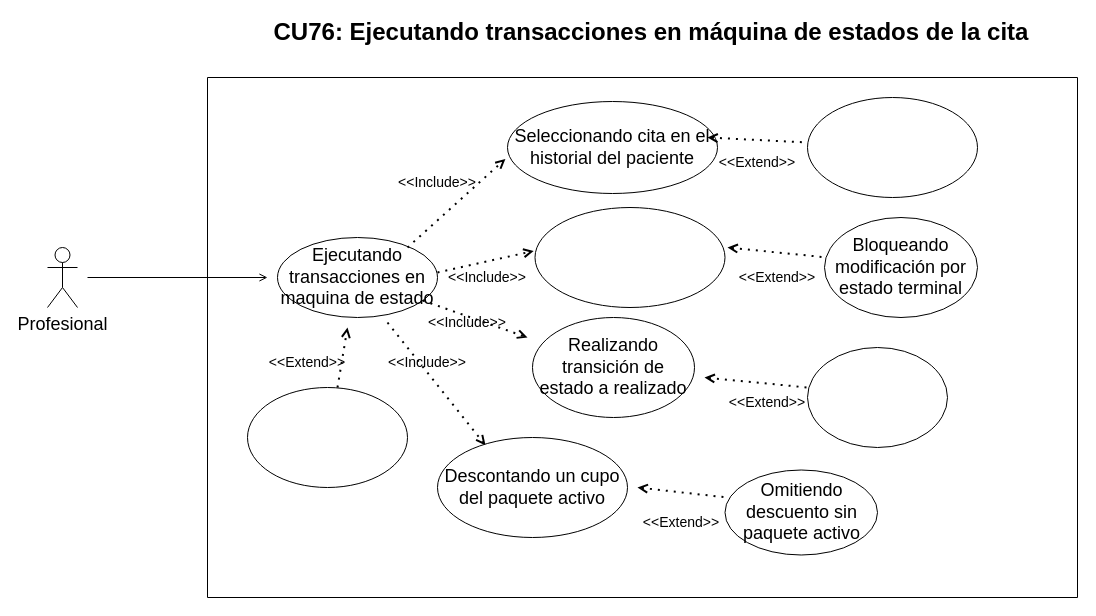
Some shapes in this 1096 by 616 pixel diagram are drawn without their labels. Each missing label, with the box of its shape:
Actualizando estado e inventario validado: (246, 386, 408, 488)
Aplicando penalización por inasistencia: (806, 346, 948, 448)
Desplegando opciones de transaccion: (534, 206, 725, 308)
Mostrando cita ajena bloqueada: (806, 96, 978, 198)
